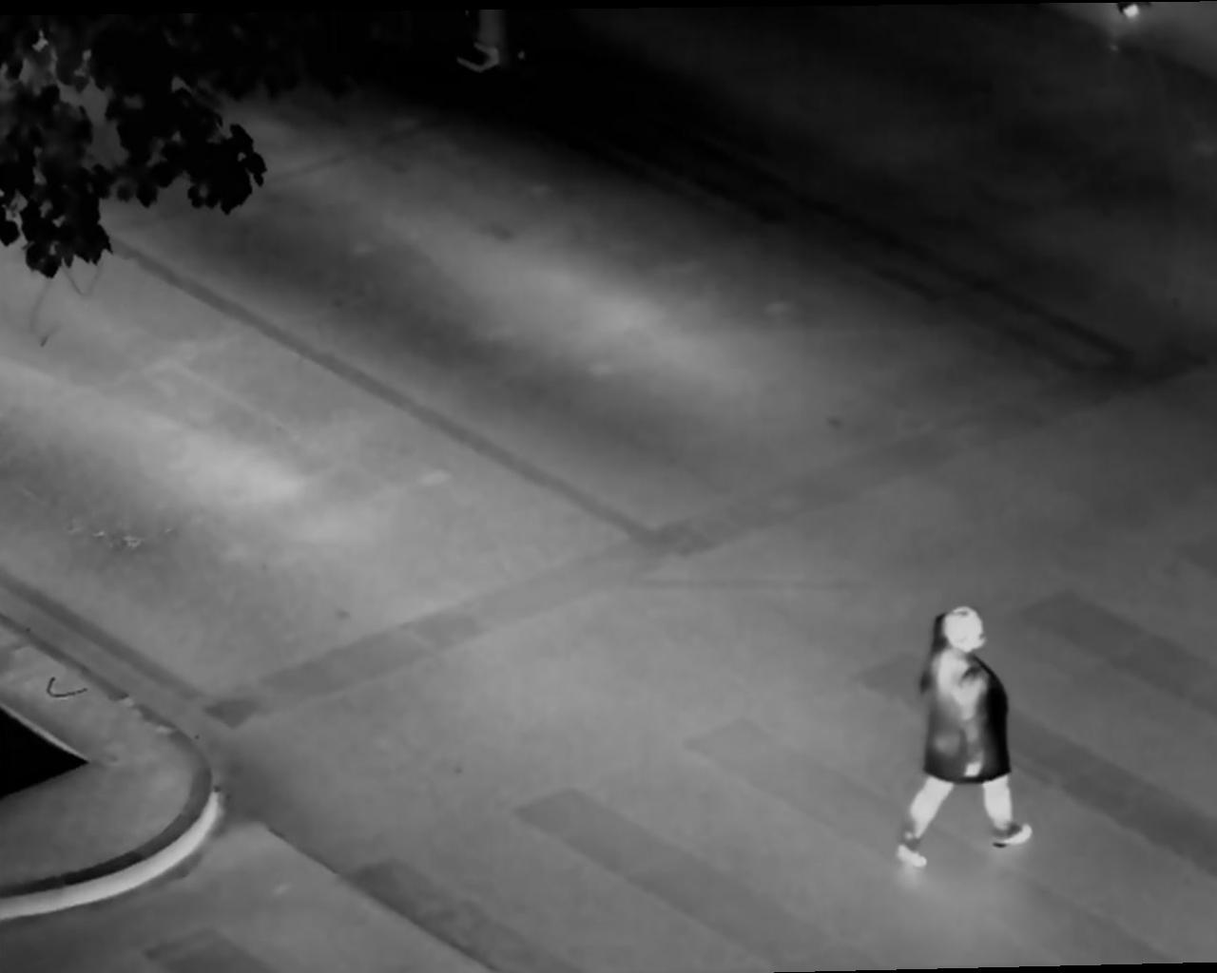person: (879, 600, 1042, 865)
